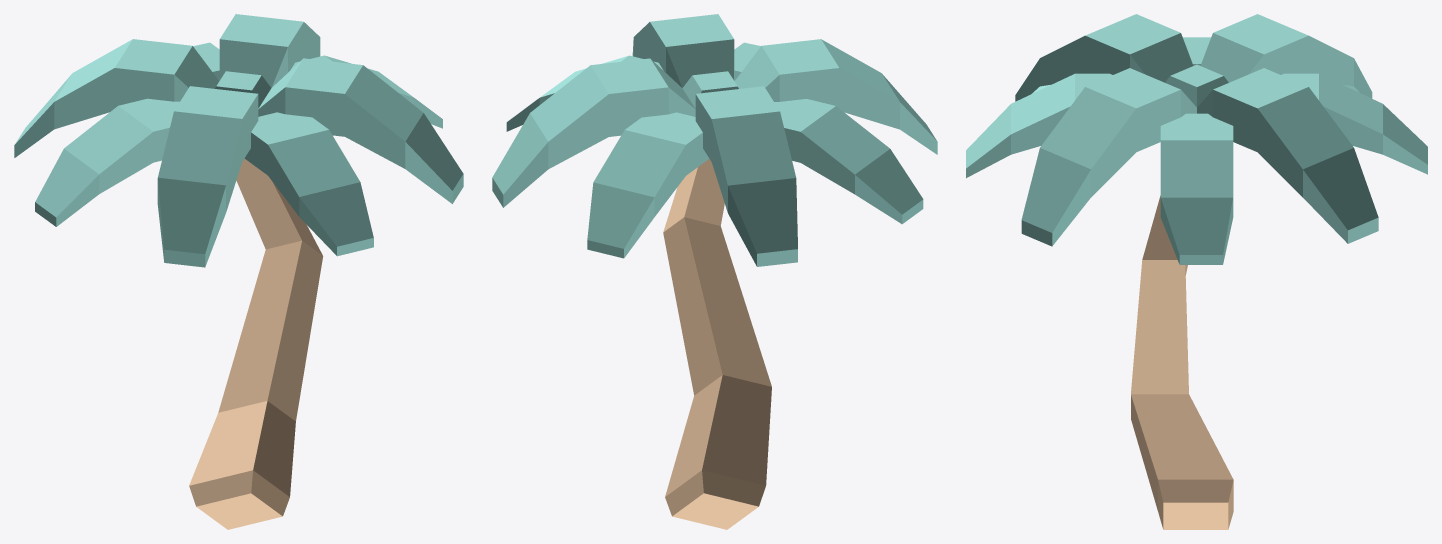
Rendered from palmDetailed_small.glb.
3 views of the same model, side by side, from view 1: azimuth 30°, elevation 25°; view 2: azimuth 150°, elevation 25°; view 3: azimuth 270°, elevation 25° (orthographic). The views are drawn at different scales.
Parts seen in each view (by area): view 1: Group 147, Group 145; view 2: Group 147, Group 145; view 3: Group 147, Group 145.
Part boxes in pixels (bbox=[...]): Group 147: bbox=[14, 14, 463, 267]; Group 145: bbox=[189, 158, 323, 529]; Group 147: bbox=[492, 14, 937, 266]; Group 145: bbox=[663, 159, 771, 529]; Group 147: bbox=[966, 14, 1427, 264]; Group 145: bbox=[1131, 195, 1233, 529].
Size of the model in its own units: 7.72 by 8.39 by 7.72.
